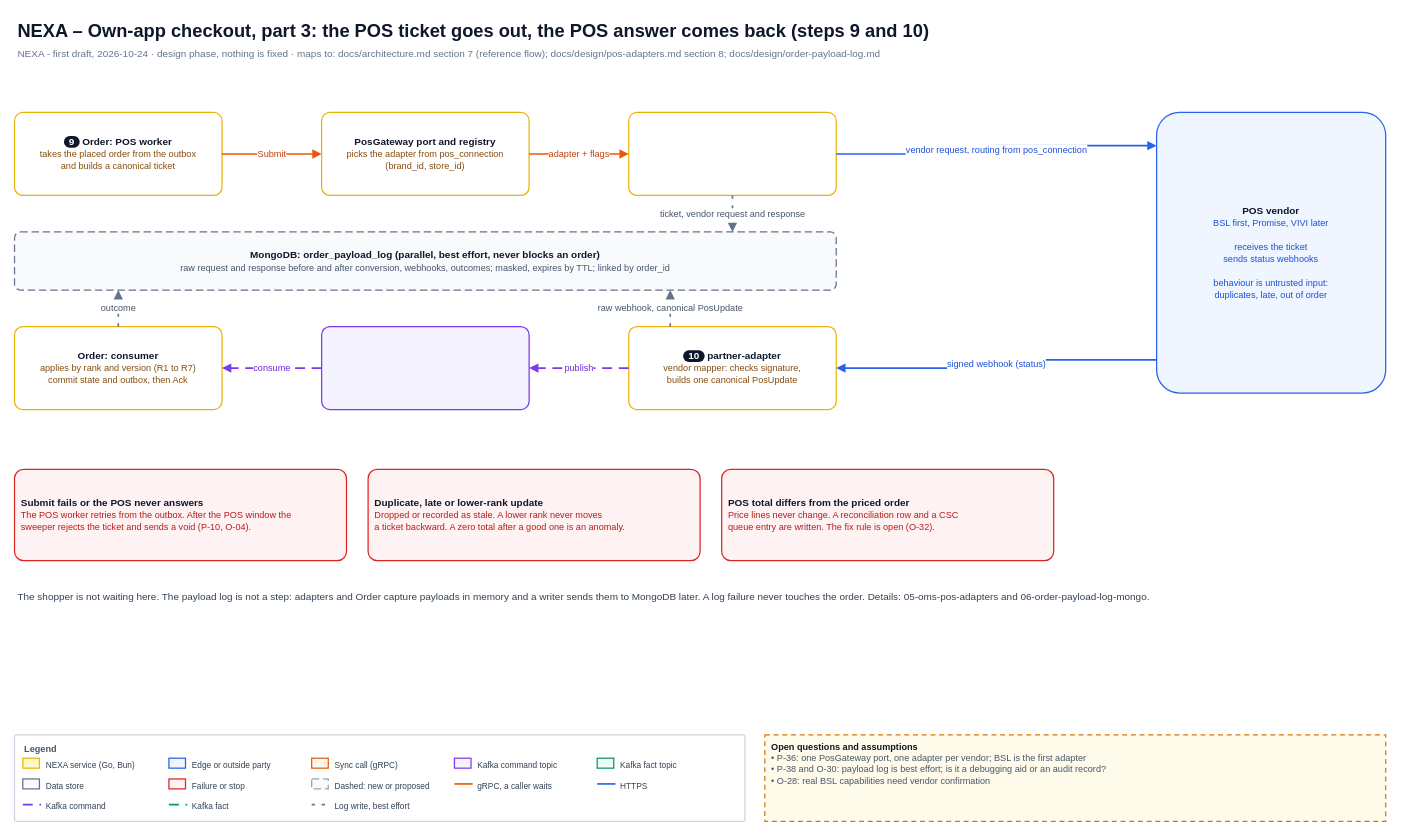
Some shapes in this 1401 by 836 pixel diagram are drawn without their labels. Each missing label, with the centre of its shape:
order.requested command {pos_status} event_id is deterministic: pixel 425 368
Vendor adapter (Go) pos/bsl first, others later the BSL proxy is its transport: pixel 732 153
